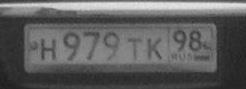license-plateSW: (23, 24, 219, 66)
